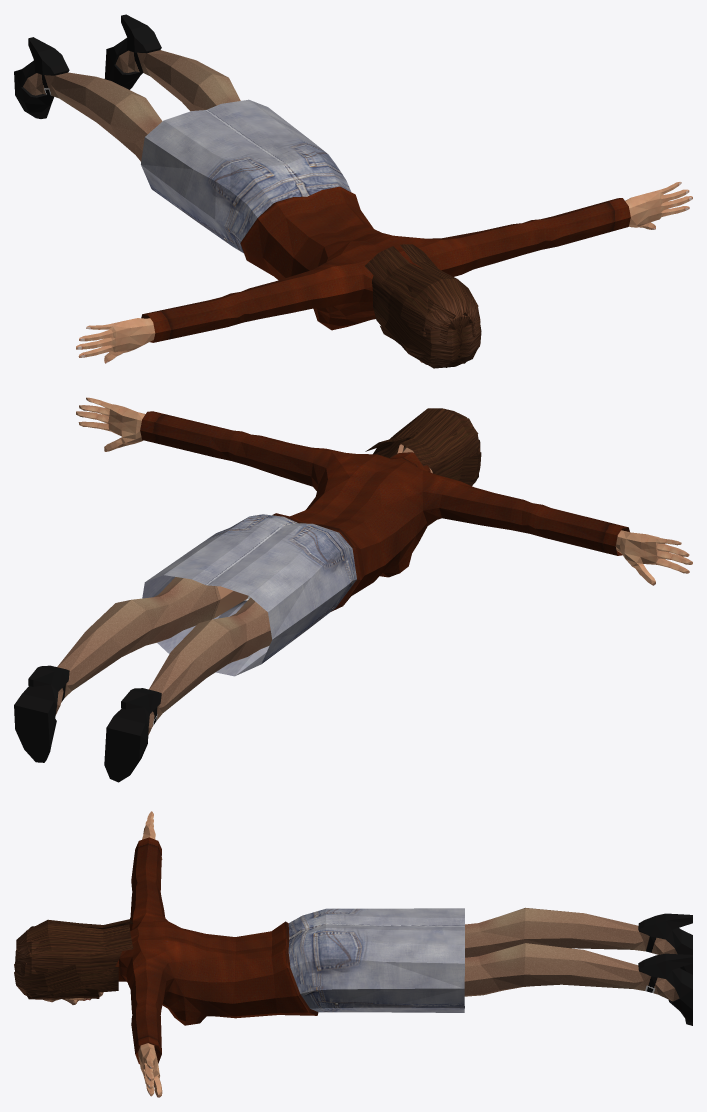
File: tomdrinwoman4_3k_wtf.obj
3 renders of one model, top to bottom at view 1: azimuth 30°, elevation 25°; view 2: azimuth 150°, elevation 25°; view 3: azimuth 270°, elevation 25°, orthographic. The views are drawn at different scales.
Visible parts, largest first — view 1: group1; view 2: group1; view 3: group1.
Part boxes in pixels (x1=…): group1: x1=14, y1=14, x2=692, y2=368; group1: x1=14, y1=397, x2=692, y2=782; group1: x1=14, y1=811, x2=692, y2=1097.
Bounding box in the file's own units: 611 × 97.35 × 660.
